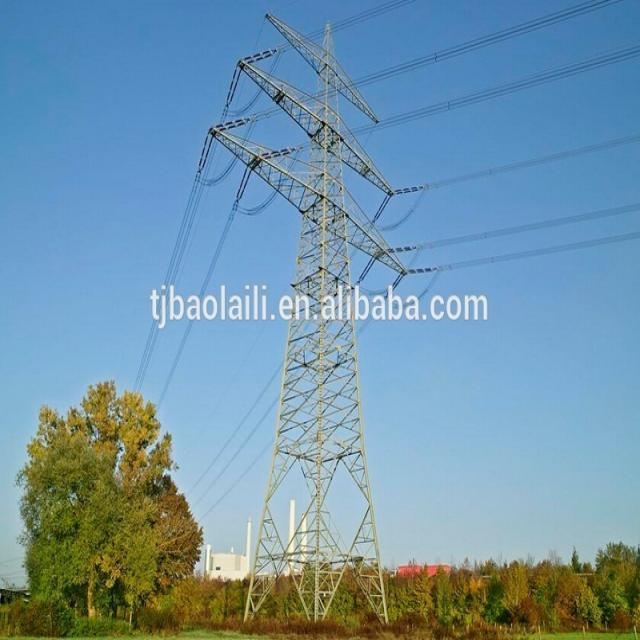non-critical vegetation: (222, 3, 428, 610)
